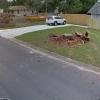Car: (38, 10, 75, 34)
